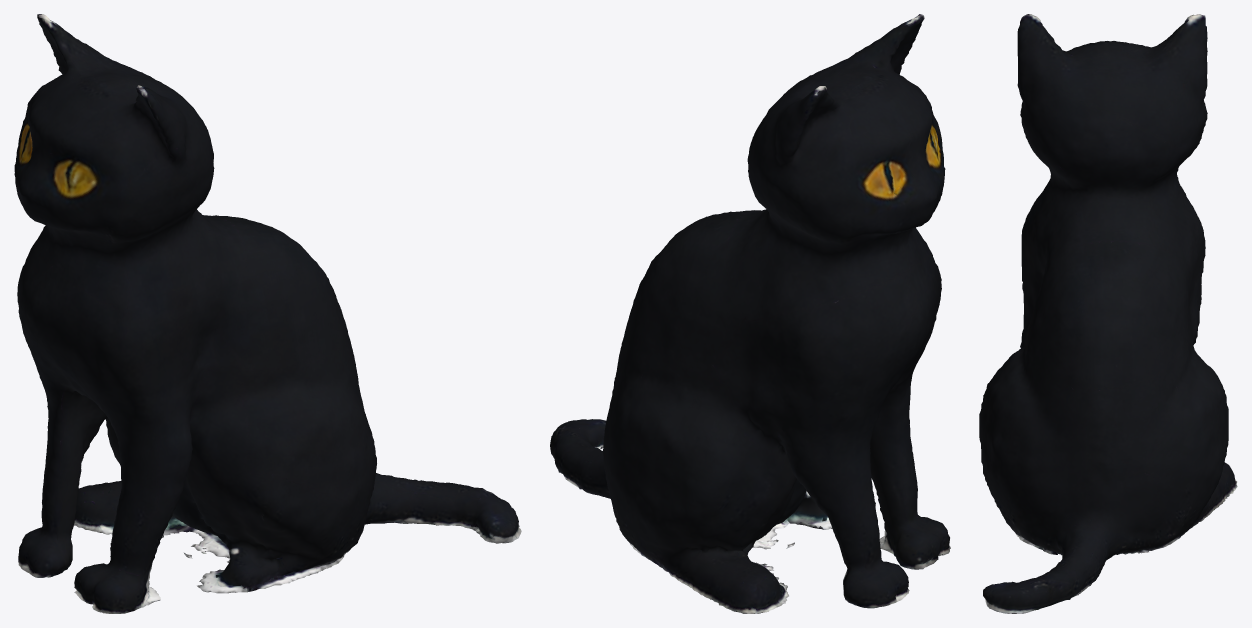
The model's file is cat_plastic.glb.
The picture shows the model from 3 angles, left to right: view 1: azimuth 30°, elevation 25°; view 2: azimuth 150°, elevation 25°; view 3: azimuth 270°, elevation 25°; orthographic projection. The views are drawn at different scales.
Visible parts, largest first — view 1: world; view 2: world; view 3: world.
Part boxes in pixels (bbox=[...]): world: bbox=[14, 14, 521, 613]; world: bbox=[550, 14, 950, 613]; world: bbox=[979, 14, 1237, 613].
Size of the model in its own units: 7.05 by 8.07 by 4.22.
Materials: 1 (1 with a texture image).
